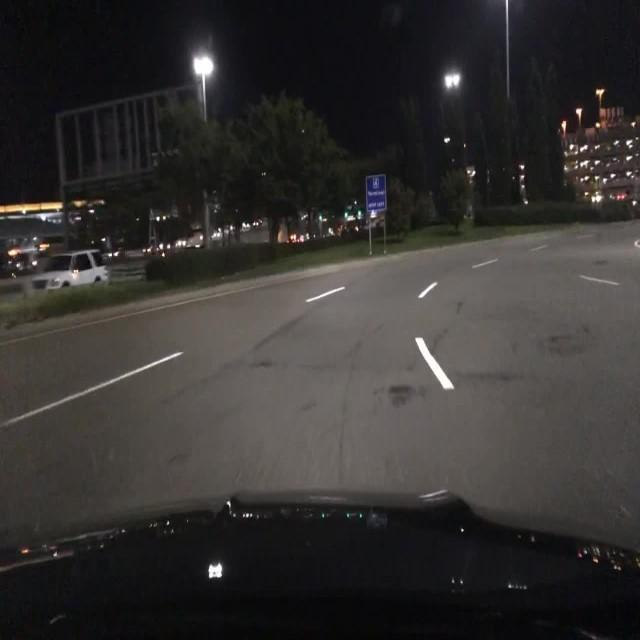normal: (31, 251, 112, 291)
